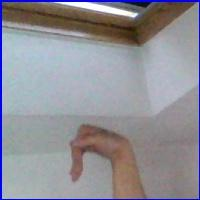del: (65, 122, 133, 186)
